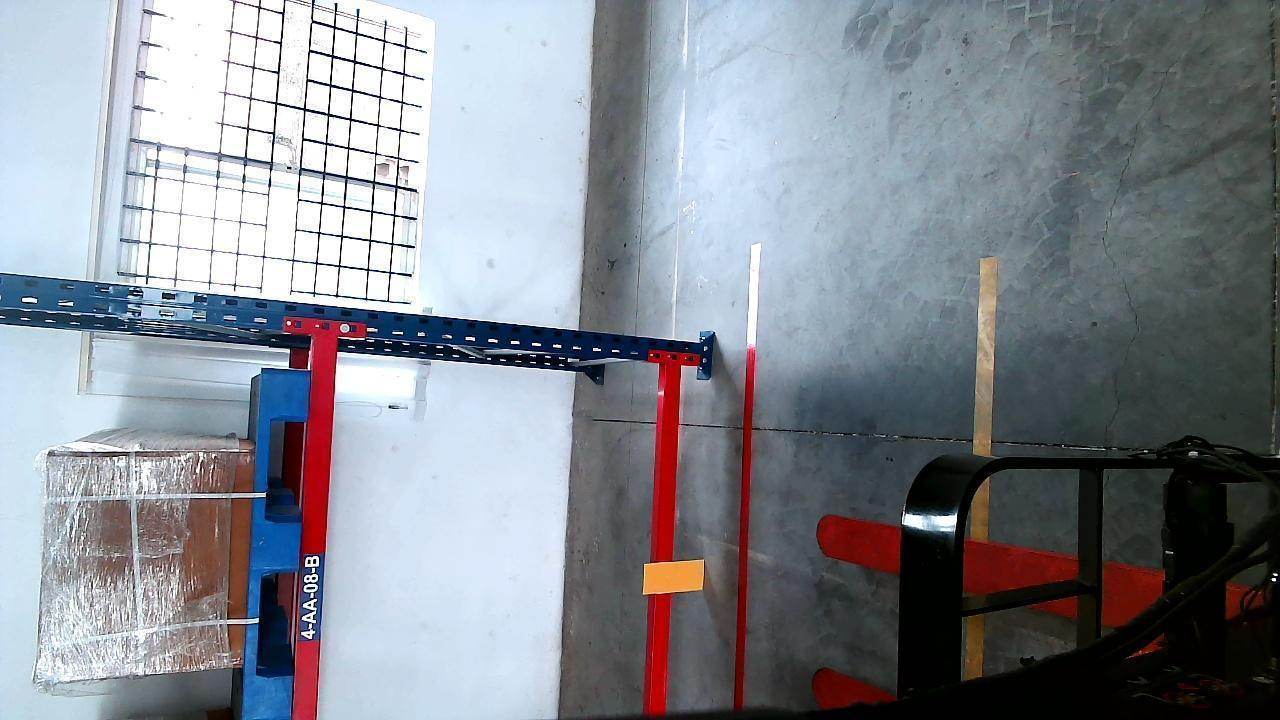red_line: (733, 250, 763, 719)
yellow_line: (972, 254, 995, 455)
